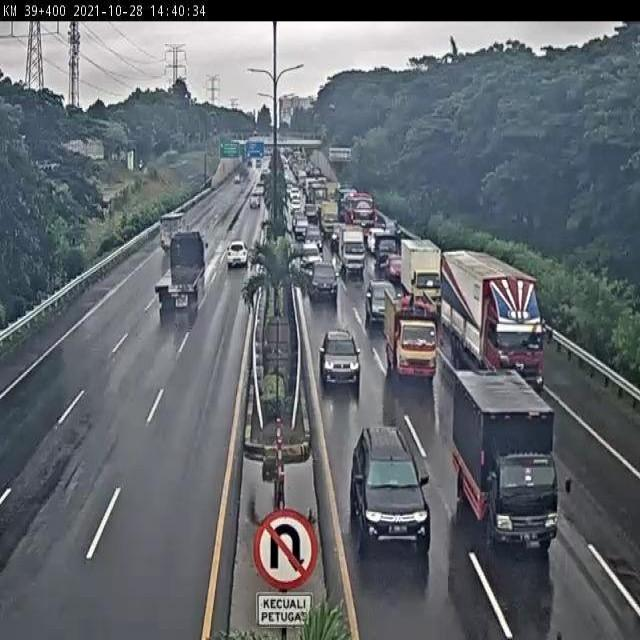big truck: (441, 251, 544, 388), (153, 230, 206, 314)
car: (350, 426, 427, 550), (319, 330, 361, 382), (365, 280, 397, 323), (310, 259, 338, 300), (226, 237, 251, 264)
small truck: (453, 370, 562, 546), (384, 296, 438, 377), (397, 236, 441, 305), (338, 226, 369, 270), (161, 213, 186, 252)
